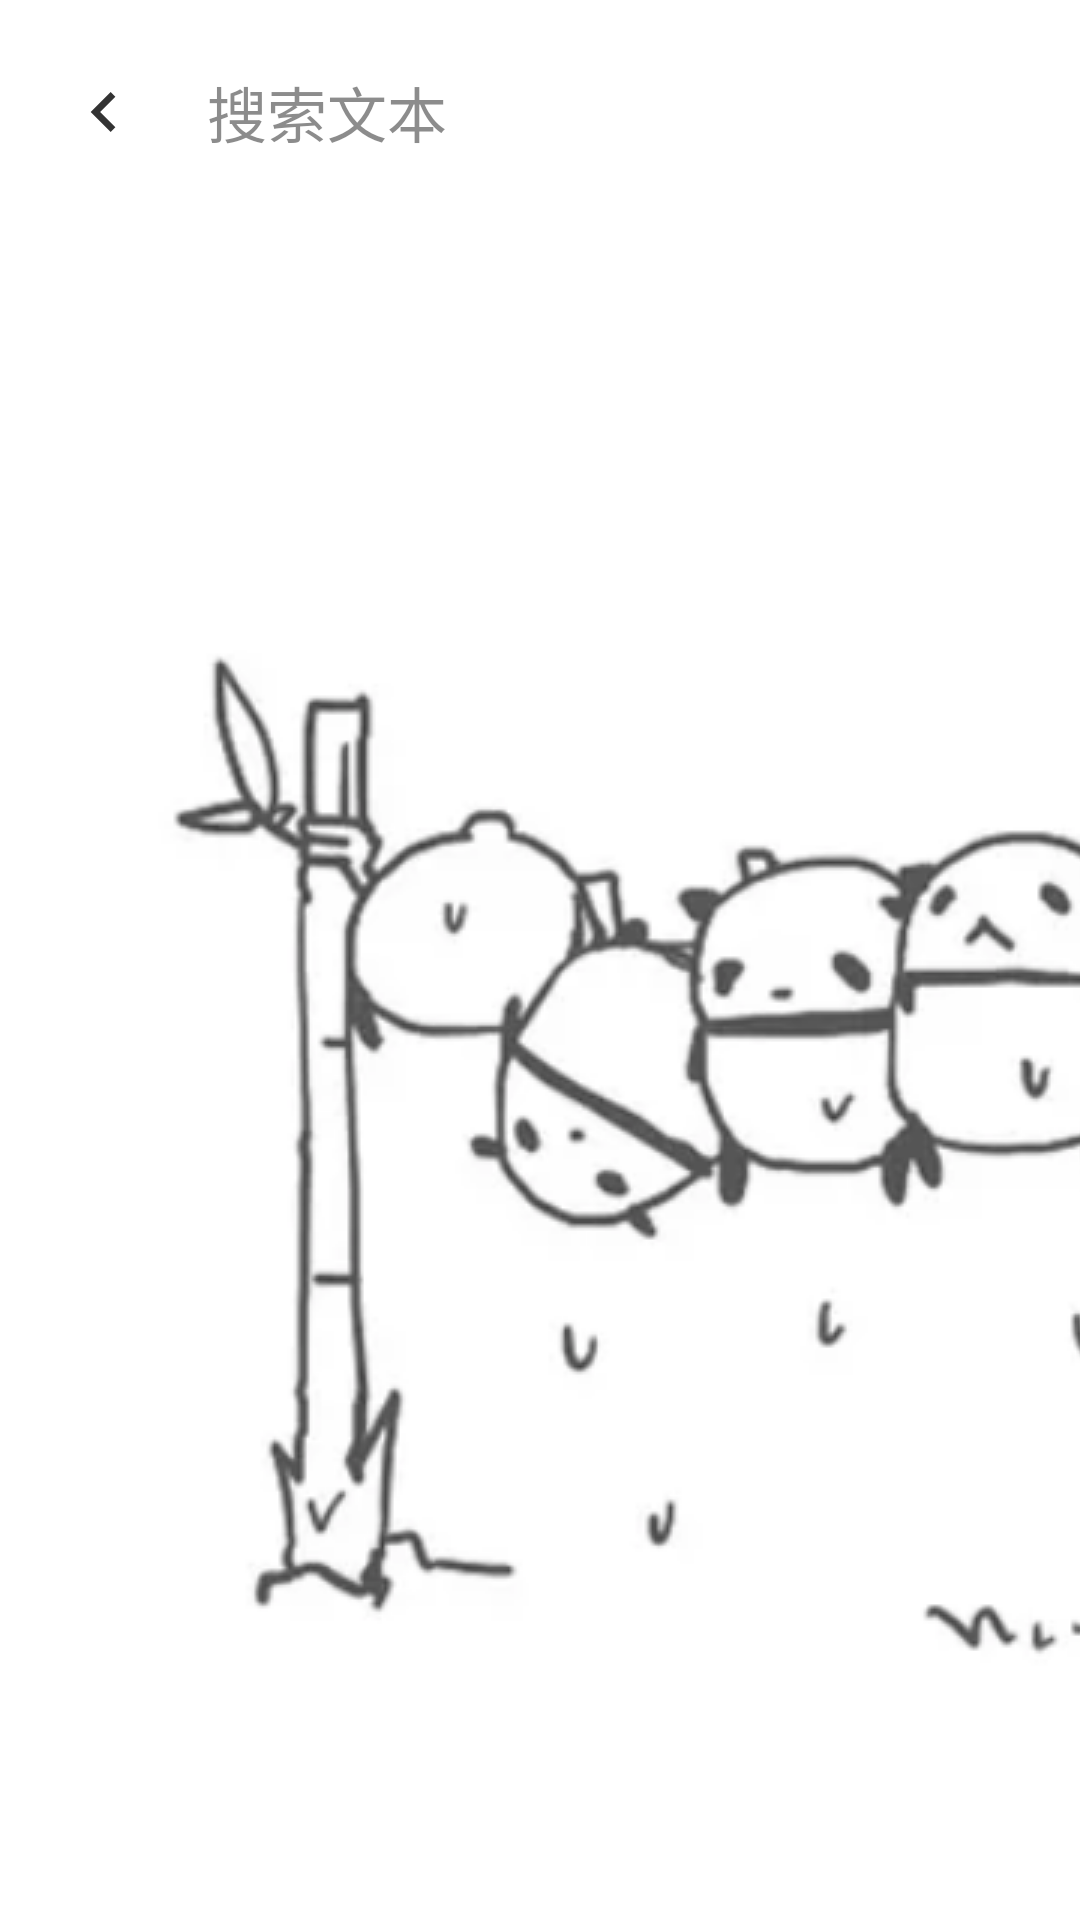

Icons on this 1080 × 1920 Android screen, each with its box as box(x1, y1, x2, y2):
leave: box(91, 92, 116, 132)
